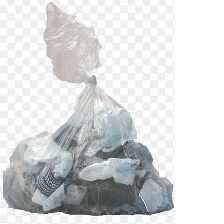plastic_bag: (0, 0, 176, 222)
